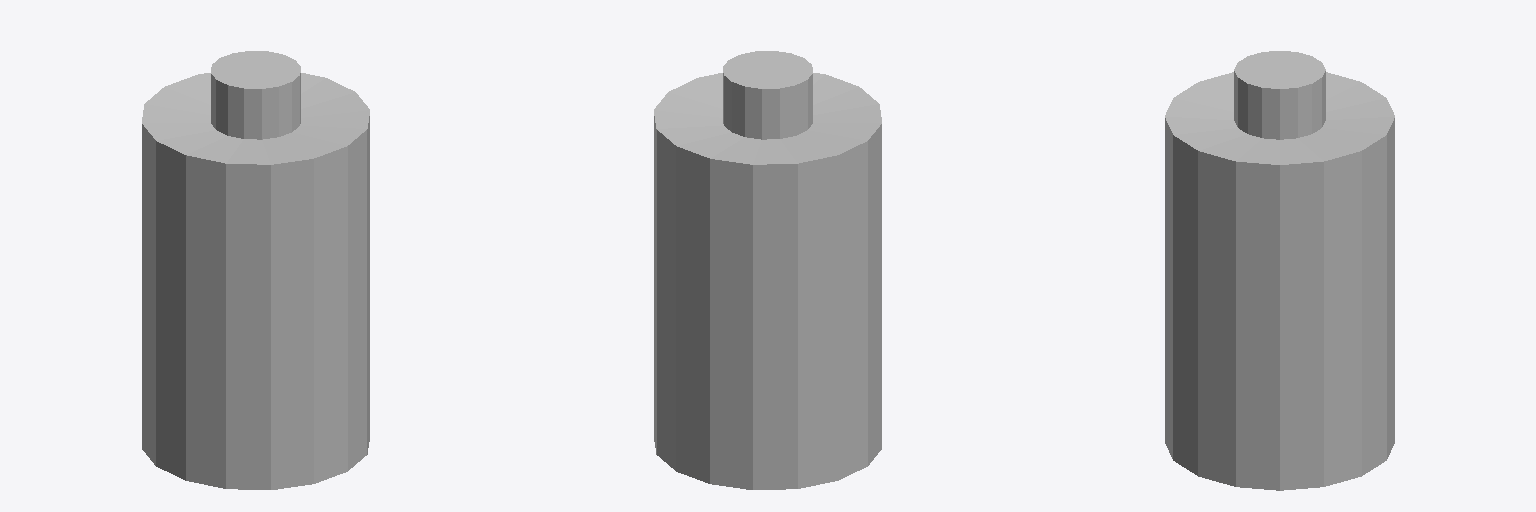
Rendered from battery.obj.
The picture shows the model from 3 angles: view 1: azimuth 30°, elevation 25°; view 2: azimuth 150°, elevation 25°; view 3: azimuth 270°, elevation 25°; orthographic projection.
Parts seen in each view (by area): view 1: Cylinder; view 2: Cylinder; view 3: Cylinder.
Part boxes in pixels (x1,y1,x2,y2): Cylinder: (142,51,369,489); Cylinder: (654,51,881,489); Cylinder: (1165,51,1394,490).
Bounding box in the file's own units: 0.2532 × 0.4504 × 0.2532.